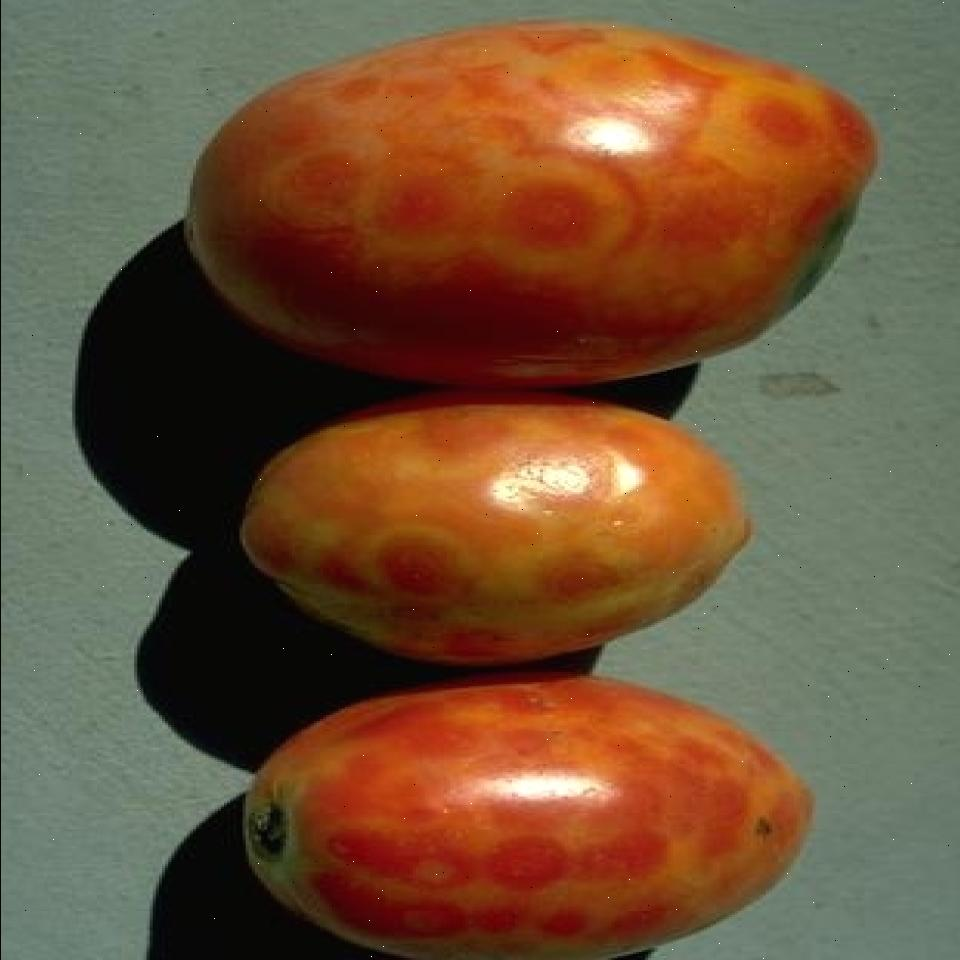Spotted wilt Virus: (182, 20, 876, 382), (241, 678, 820, 960), (236, 390, 762, 663)
